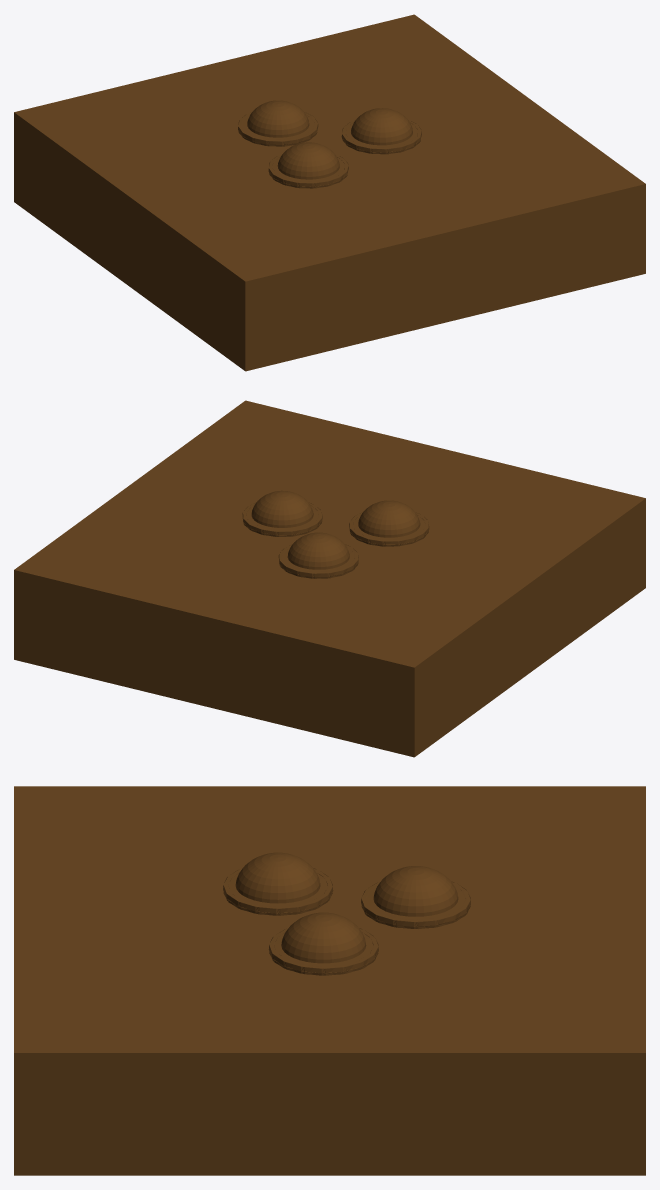
The model's file is br1_cover.fbx.
The picture shows the model from 3 angles, top to bottom: view 1: azimuth 30°, elevation 25°; view 2: azimuth 150°, elevation 25°; view 3: azimuth 270°, elevation 25°; orthographic projection. The views are drawn at different scales.
Visible parts, largest first — view 1: Cover.012; view 2: Cover.012; view 3: Cover.012.
Part boxes in pixels (x1=…): Cover.012: x1=14, y1=14, x2=645, y2=371; Cover.012: x1=14, y1=400, x2=645, y2=757; Cover.012: x1=14, y1=786, x2=645, y2=1175.
Size of the model in its own units: 15.52 by 4.28 by 15.53.
